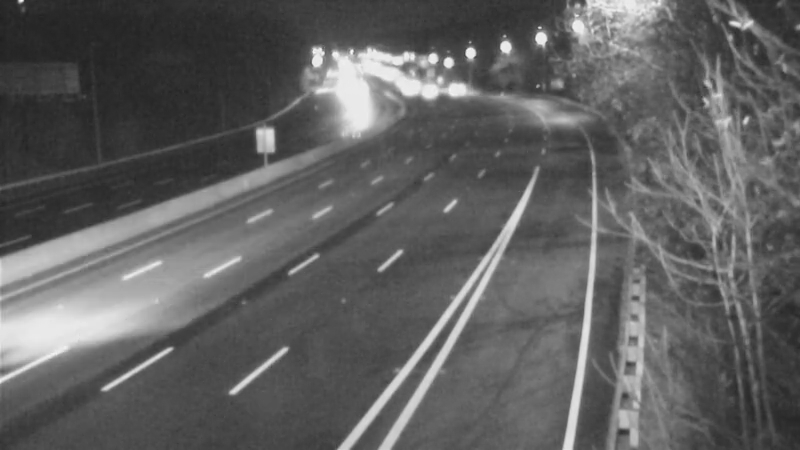vehicle: (398, 67, 448, 117), (430, 61, 480, 111)
